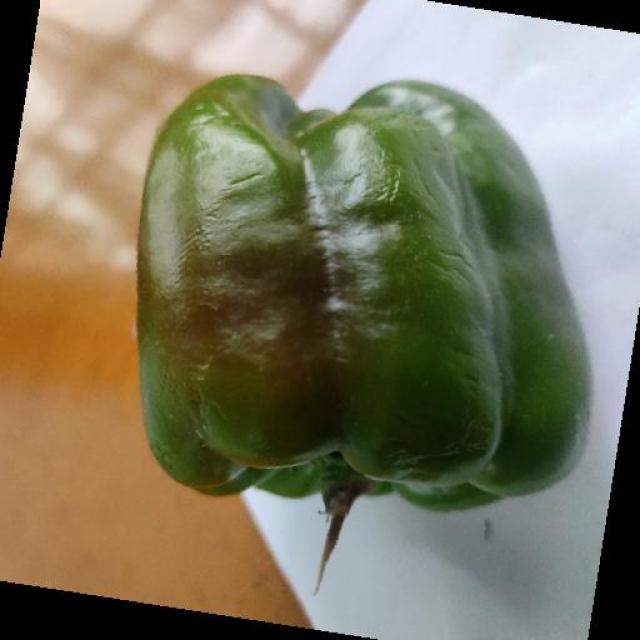Stale_Capsicum: (135, 66, 564, 534)
